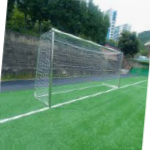goals: (32, 25, 125, 113)
